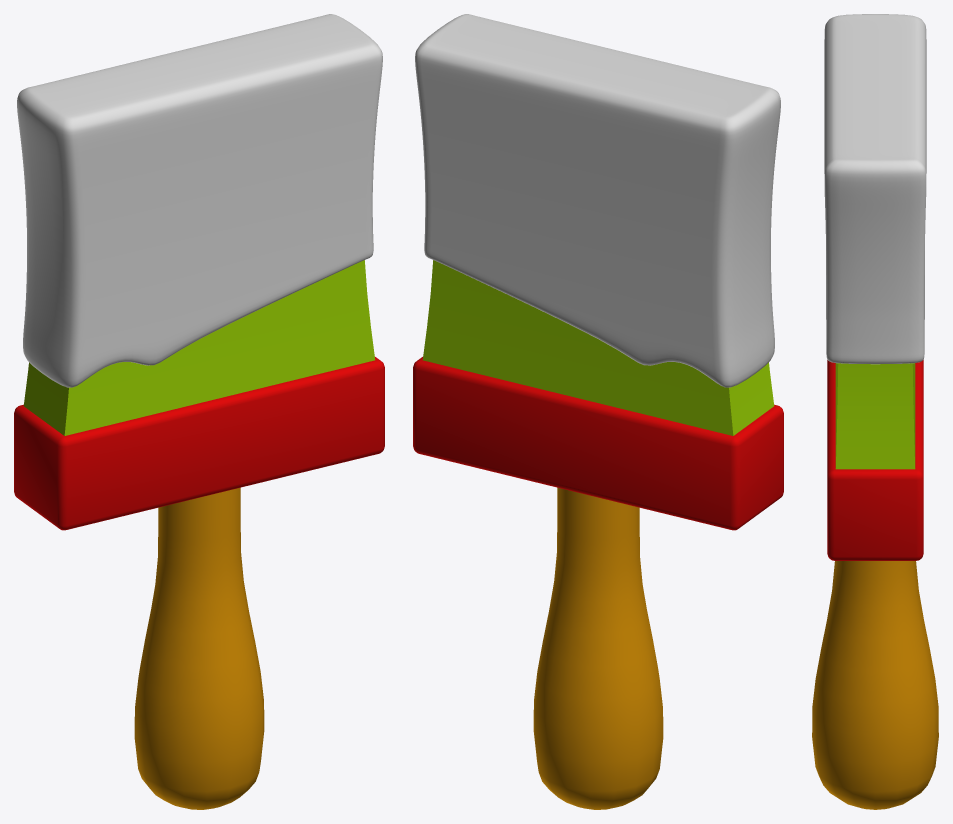
File: ku_paintbrush_001.fbx
3 views of the same model, side by side, from view 1: azimuth 30°, elevation 25°; view 2: azimuth 150°, elevation 25°; view 3: azimuth 270°, elevation 25° (orthographic). The views are drawn at different scales.
Parts seen in each view (by area): view 1: Paintbrush1, Paintbrush; view 2: Paintbrush1, Paintbrush; view 3: Paintbrush, Paintbrush1.
Boxes of the visible parts, box(x1,y1,x2,y2) form: Paintbrush1: box(17, 14, 382, 387); Paintbrush: box(14, 260, 384, 809); Paintbrush1: box(415, 14, 780, 387); Paintbrush: box(413, 260, 783, 809); Paintbrush: box(812, 360, 938, 809); Paintbrush1: box(824, 14, 926, 364).
Size of the model in its own units: 251 by 538 by 86.3.
